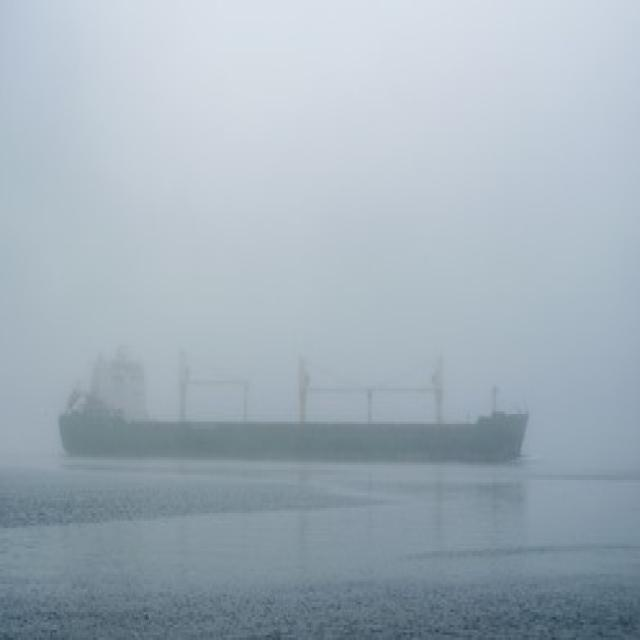cargoship: (58, 340, 536, 465)
